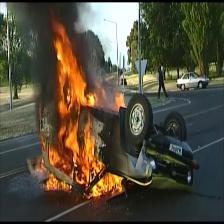fire: (43, 8, 131, 201)
smoke: (5, 4, 62, 112), (68, 1, 120, 112)
